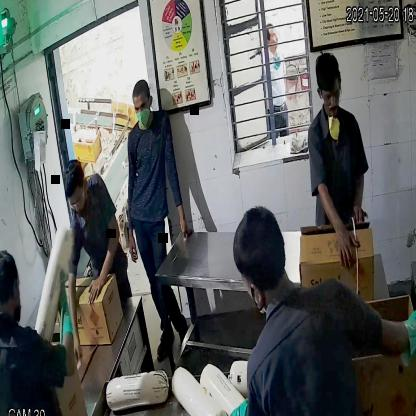goggles: (314, 80, 345, 107)
no_goggles: (131, 96, 150, 112)
